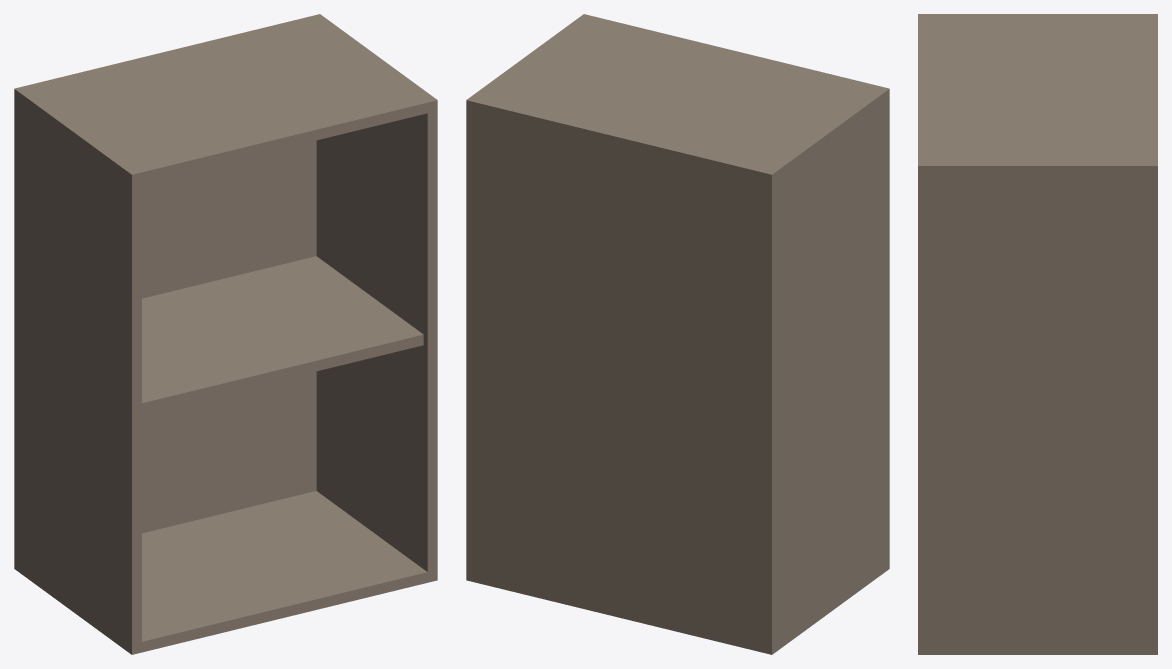
The model's file is Kitchen1_C5_08.fbx.
The picture shows the model from 3 angles, left to right: view 1: azimuth 30°, elevation 25°; view 2: azimuth 150°, elevation 25°; view 3: azimuth 270°, elevation 25°; orthographic projection.
Parts seen in each view (by area): view 1: Kitchen1_C5_08; view 2: Kitchen1_C5_08; view 3: Kitchen1_C5_08.
Boxes of the visible parts, bbox=[...] form: Kitchen1_C5_08: bbox=[14, 14, 437, 654]; Kitchen1_C5_08: bbox=[466, 14, 889, 654]; Kitchen1_C5_08: bbox=[918, 14, 1157, 654].
Bounding box in the file's own units: 60 × 90 × 40.
